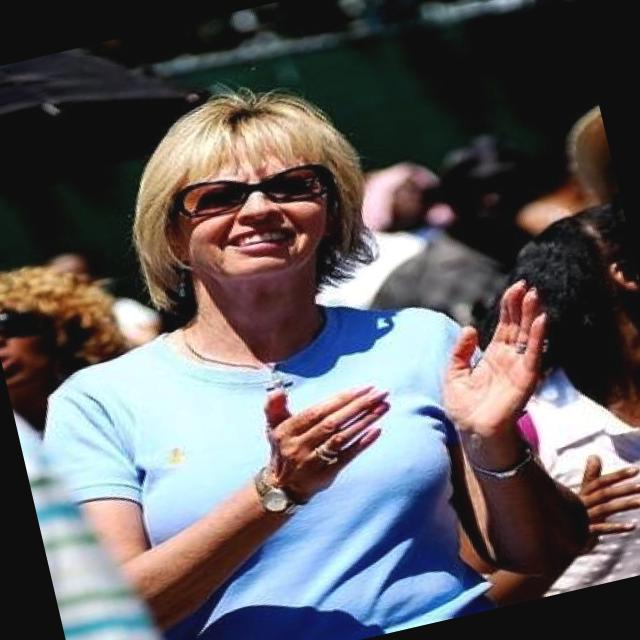no_vest: (22, 257, 539, 640)
